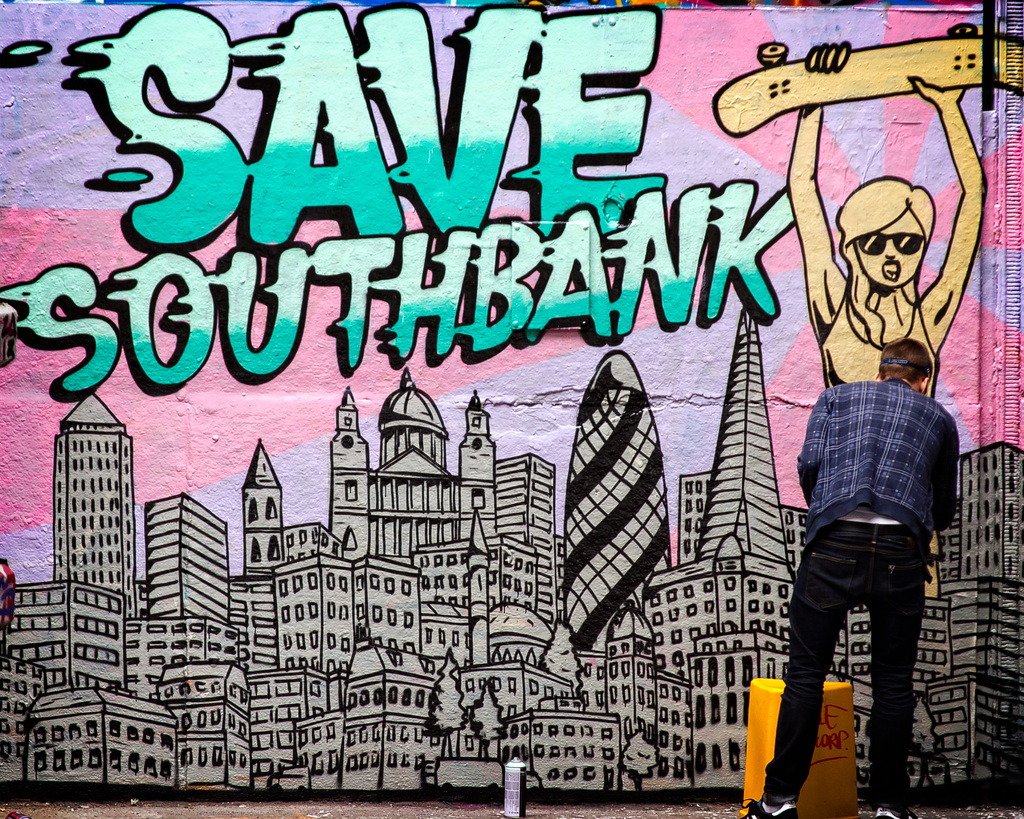Footwear: (739, 792, 799, 818), (872, 798, 902, 818)
